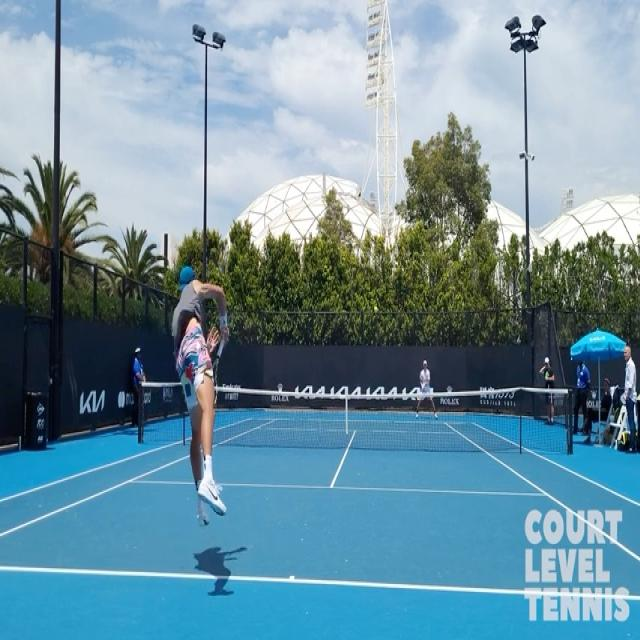serve_followthrough: (151, 232, 269, 546)
